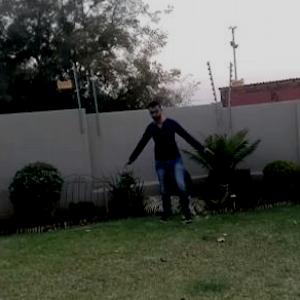land: (115, 97, 219, 232)
